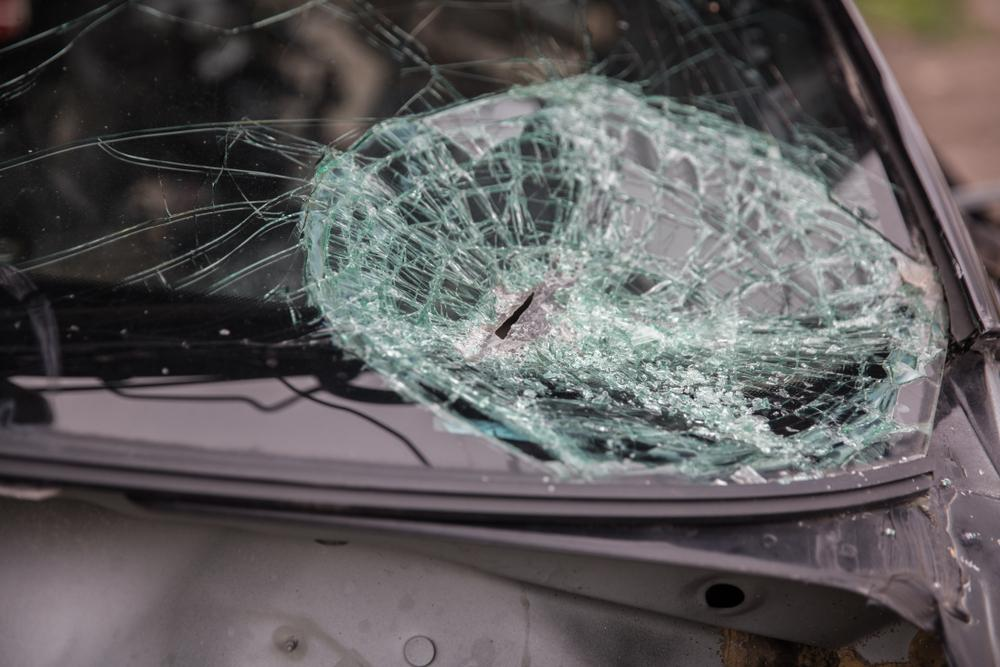glass shatter: (0, 0, 952, 485)
